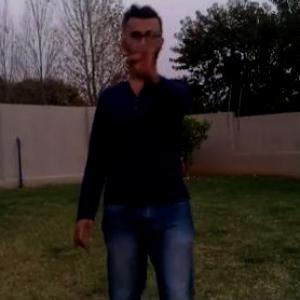takeoff-hand: (124, 32, 165, 74)
